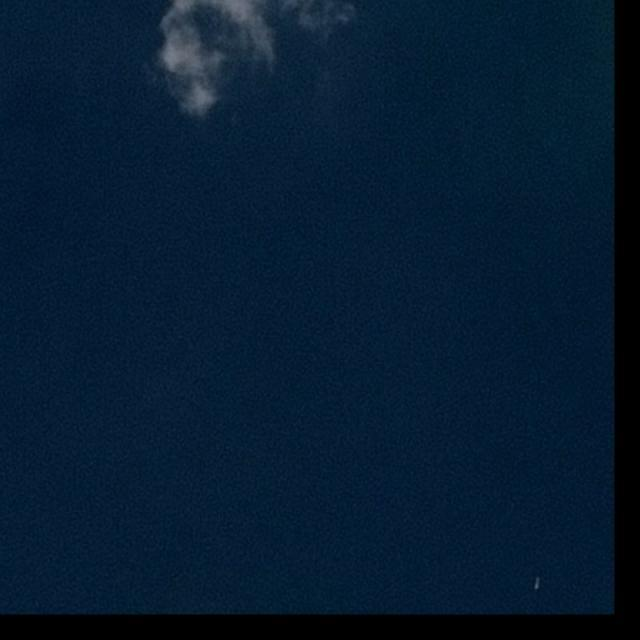ship: (533, 577, 542, 591)
